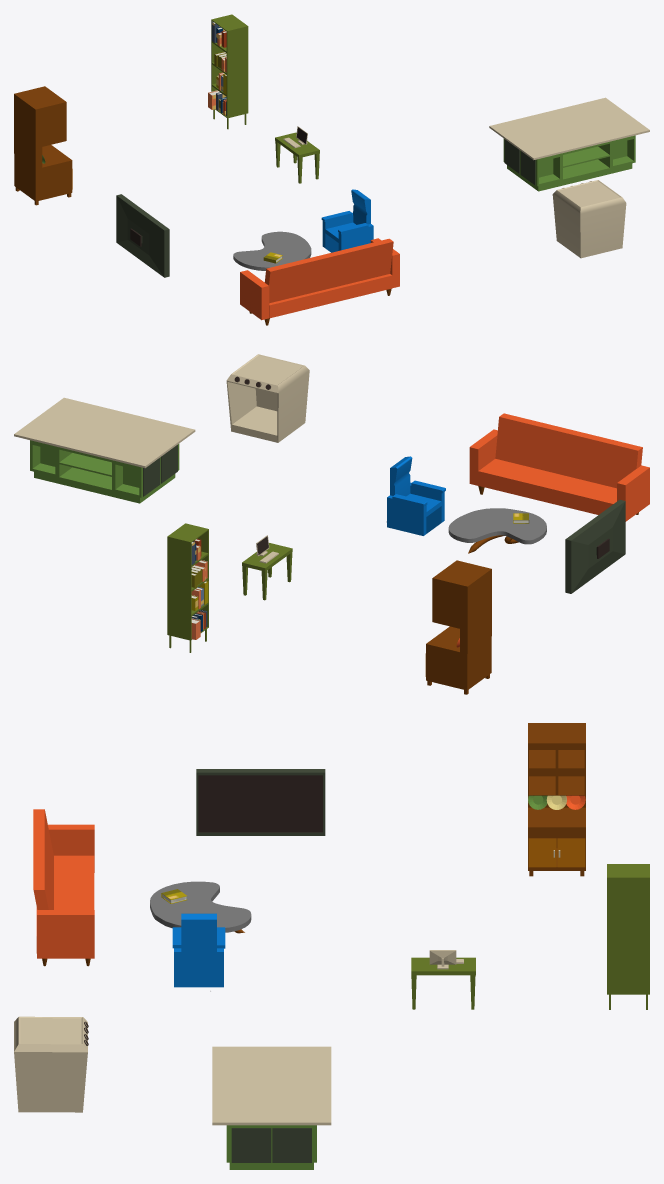
The model's file is Muebles.obj.
The picture shows the model from 3 angles, top to bottom: view 1: azimuth 30°, elevation 25°; view 2: azimuth 150°, elevation 25°; view 3: azimuth 270°, elevation 25°; orthographic projection. The views are drawn at different scales.
Parts seen in each view (by area): view 1: group1 Objetos:Barra_cocina, group1 Objetos:Sillon_rojo, group1 Objetos:MueblepolySurface42, group1 Objetos:Estufa1polySurface64, Objetos:Librero group1, group1 Objetos:TelepolySurface13, group1 Objetos:Silla_Azul, group1 Objetos:MesapolySurface61, group1 Objetos:Mesa_compu; view 2: group1 Objetos:Sillon_rojo, group1 Objetos:Barra_cocina, group1 Objetos:MueblepolySurface42, group1 Objetos:Estufa1polySurface64, group1 Objetos:TelepolySurface13, Objetos:Librero group1, group1 Objetos:Silla_Azul, group1 Objetos:MesapolySurface61, group1 Objetos:Mesa_compu; view 3: group1 Objetos:Barra_cocina, group1 Objetos:TelepolySurface13, group1 Objetos:Sillon_rojo, group1 Objetos:Estufa1polySurface64, group1 Objetos:MueblepolySurface42, Objetos:Librero group1, group1 Objetos:Silla_Azul, group1 Objetos:MesapolySurface61, group1 Objetos:Mesa_compu, group1 Objetos:polySurface45Mueble, group1 Objetos:MueblepolySurface44.
Part boxes in pixels (x1,y1,x2,y2): group1 Objetos:Barra_cocina: (489, 97, 649, 191); group1 Objetos:Sillon_rojo: (240, 238, 399, 325); group1 Objetos:MueblepolySurface42: (14, 86, 72, 205); group1 Objetos:Estufa1polySurface64: (552, 180, 626, 258); Objetos:Librero group1: (211, 14, 248, 129); group1 Objetos:TelepolySurface13: (116, 194, 169, 277); group1 Objetos:Silla_Azul: (321, 189, 373, 252); group1 Objetos:MesapolySurface61: (233, 231, 311, 270); group1 Objetos:Mesa_compu: (275, 132, 319, 183); group1 Objetos:Sillon_rojo: (469, 413, 649, 521); group1 Objetos:Barra_cocina: (14, 397, 195, 503); group1 Objetos:MueblepolySurface42: (426, 560, 491, 694); group1 Objetos:Estufa1polySurface64: (226, 354, 309, 442); group1 Objetos:TelepolySurface13: (565, 499, 625, 593); Objetos:Librero group1: (167, 523, 208, 652); group1 Objetos:Silla_Azul: (387, 456, 445, 535); group1 Objetos:MesapolySurface61: (448, 508, 546, 544); group1 Objetos:Mesa_compu: (242, 543, 292, 600); group1 Objetos:Barra_cocina: (212, 1046, 331, 1169); group1 Objetos:TelepolySurface13: (196, 769, 325, 835); group1 Objetos:Sillon_rojo: (33, 809, 94, 966); group1 Objetos:Estufa1polySurface64: (14, 1016, 87, 1112); group1 Objetos:MueblepolySurface42: (528, 723, 585, 876); Objetos:Librero group1: (607, 864, 649, 1009); group1 Objetos:Silla_Azul: (172, 913, 225, 987); group1 Objetos:MesapolySurface61: (150, 881, 251, 932); group1 Objetos:Mesa_compu: (411, 957, 475, 1009); group1 Objetos:polySurface45Mueble: (557, 838, 585, 867); group1 Objetos:MueblepolySurface44: (528, 838, 556, 867).
Bounding box in the file's own units: 1430 × 276 × 1183.
